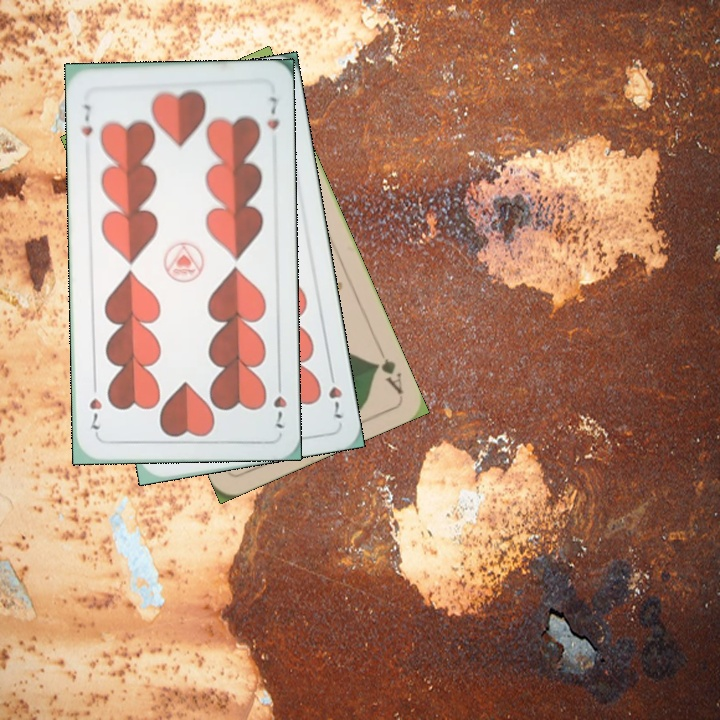GA: (369, 341, 406, 397)
H7: (324, 365, 346, 421), (270, 375, 290, 431), (77, 100, 95, 138)
